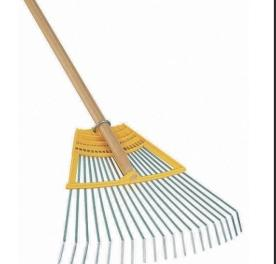RATEAU: (0, 2, 276, 264)
